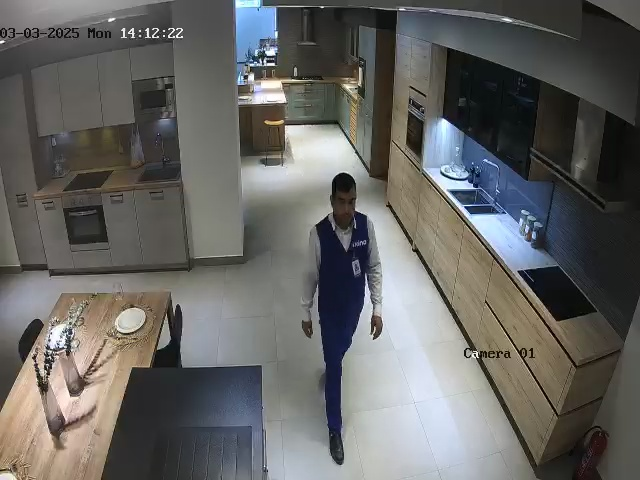employee: (300, 172, 384, 465)
